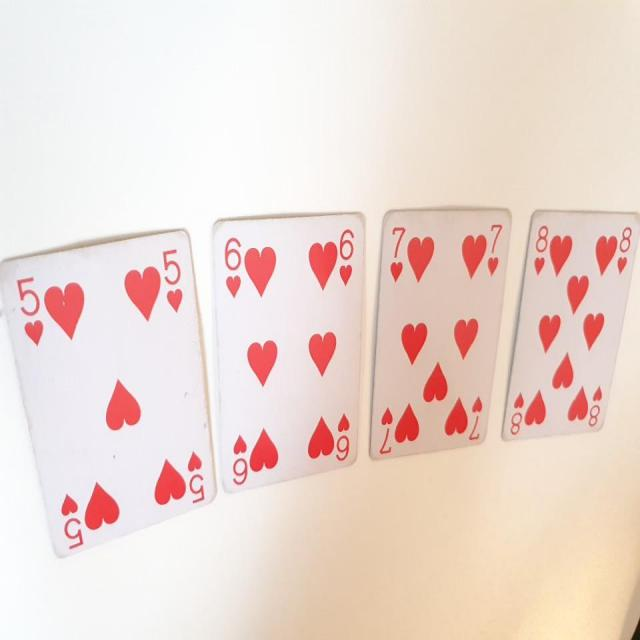5 Hearts: (1, 217, 219, 568)
6 Hearts: (209, 209, 360, 494)
7 Hearts: (367, 204, 518, 470)
8 Hearts: (502, 205, 640, 438)
